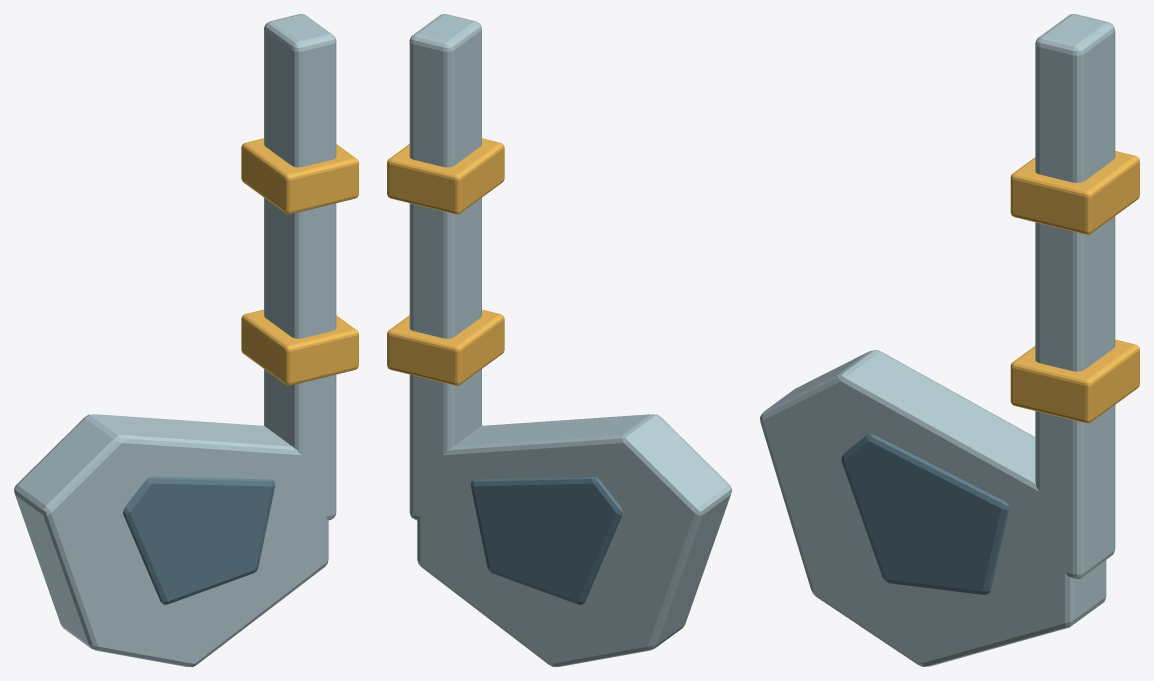
The model's file is SM_RotatingAxe.fbx.
3 renders of one model, left to right at view 1: azimuth 30°, elevation 25°; view 2: azimuth 150°, elevation 25°; view 3: azimuth 330°, elevation 25°, orthographic. The views are drawn at different scales.
Visible parts, largest first — view 1: SM_RotatingAxe; view 2: SM_RotatingAxe; view 3: SM_RotatingAxe.
Part boxes in pixels (x1,y1,x2,y2): SM_RotatingAxe: (14,14,358,666); SM_RotatingAxe: (387,14,731,666); SM_RotatingAxe: (760,14,1139,666).
Bounding box in the file's own units: 113 × 30 × 210.
